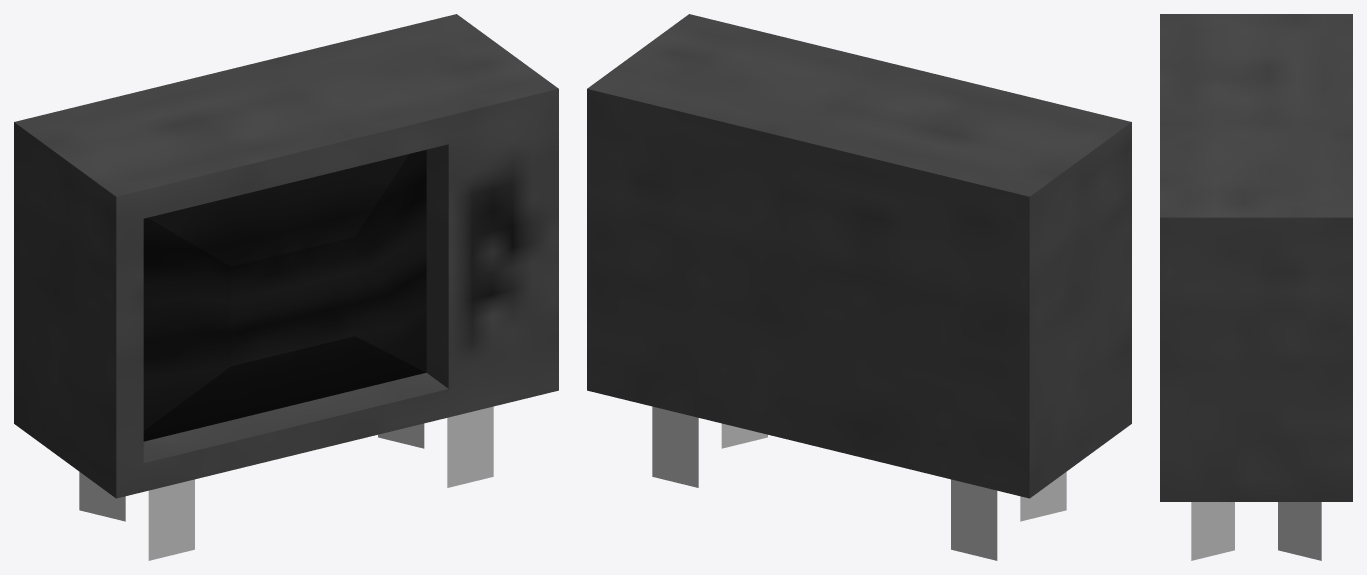
The picture shows the model from 3 angles, left to right: view 1: azimuth 30°, elevation 25°; view 2: azimuth 150°, elevation 25°; view 3: azimuth 270°, elevation 25°; orthographic projection. The views are drawn at different scales.
Parts seen in each view (by area): view 1: tv; view 2: tv; view 3: tv.
Part boxes in pixels (x1=…): tv: x1=14, y1=14, x2=558, y2=560; tv: x1=587, y1=14, x2=1131, y2=560; tv: x1=1160, y1=14, x2=1352, y2=560.
Size of the model in its own units: 178 by 149 by 71.13.
